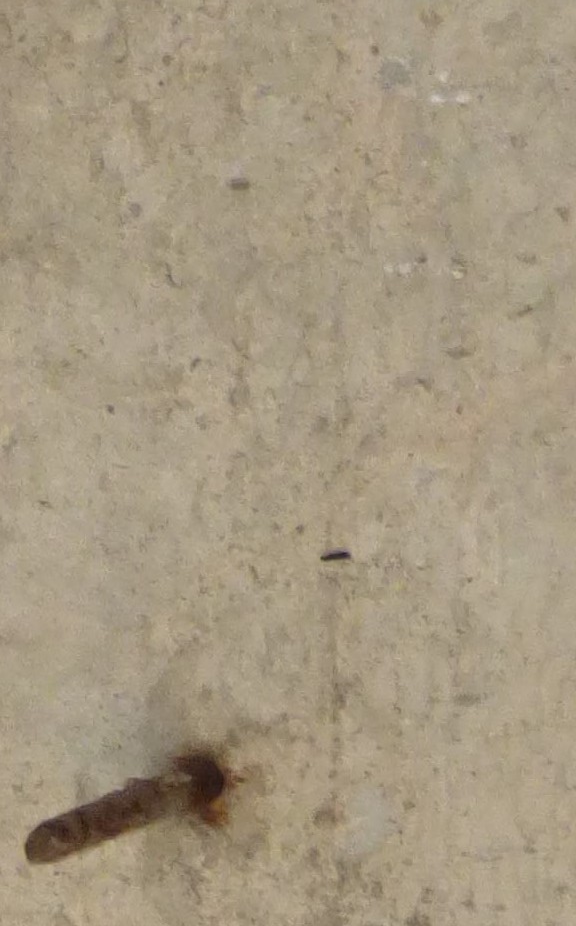Exposed reinforcement: (24, 762, 218, 865)
